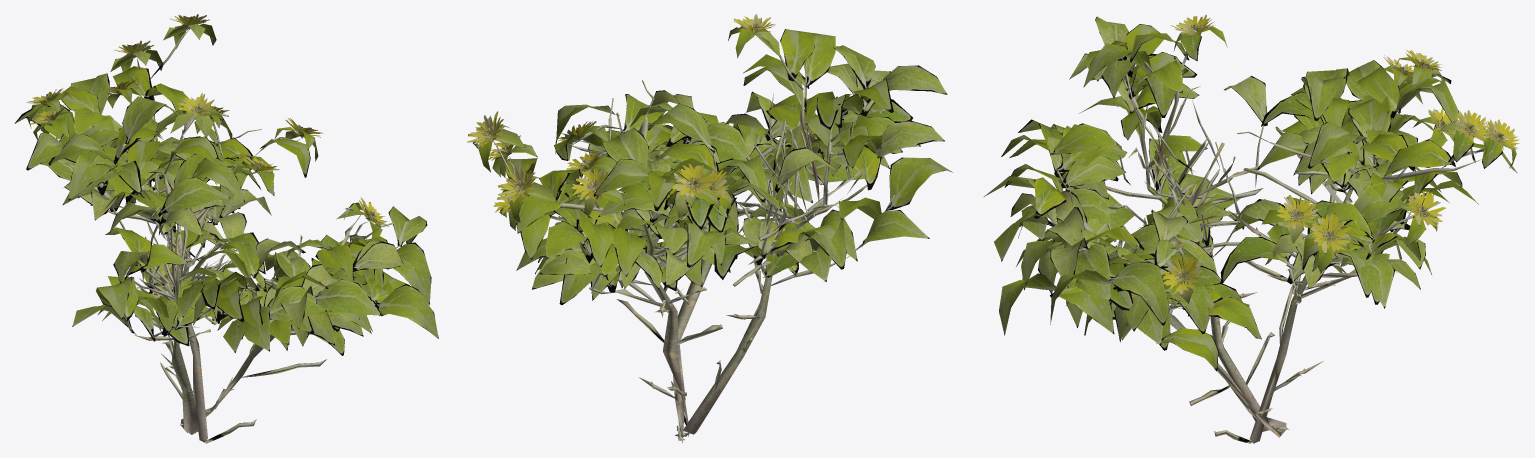
Rendered from bush3.obj.
The picture shows the model from 3 angles, left to right: view 1: azimuth 30°, elevation 25°; view 2: azimuth 150°, elevation 25°; view 3: azimuth 270°, elevation 25°; orthographic projection. The views are drawn at different scales.
Parts seen in each view (by area): view 1: didelta_spinosa_medium_LOD0.002; view 2: didelta_spinosa_medium_LOD0.002; view 3: didelta_spinosa_medium_LOD0.002.
Boxes of the visible parts, left/top/right/bottom form: didelta_spinosa_medium_LOD0.002: left=14, top=14, right=438, bottom=443; didelta_spinosa_medium_LOD0.002: left=467, top=14, right=952, bottom=442; didelta_spinosa_medium_LOD0.002: left=984, top=14, right=1519, bottom=443.
Size of the model in its own units: 0.1587 by 0.1618 by 0.1939.
